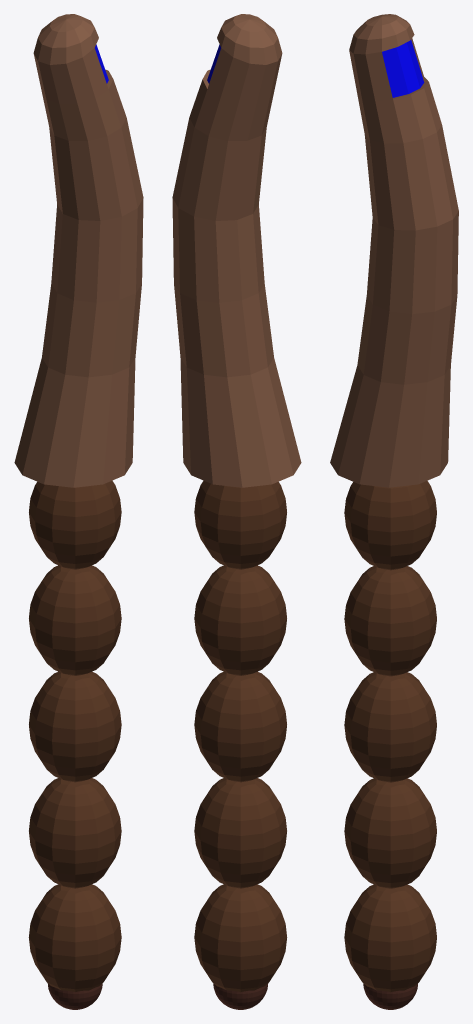
File: Wand 243.glb
The picture shows the model from 3 angles, left to right: view 1: azimuth 30°, elevation 25°; view 2: azimuth 150°, elevation 25°; view 3: azimuth 330°, elevation 25°; orthographic projection.
Visible parts, largest first — view 1: GeneratedWand; view 2: GeneratedWand; view 3: GeneratedWand.
Boxes of the visible parts, <box> form: GeneratedWand: <box>14,14,143,1009</box>; GeneratedWand: <box>172,14,301,1009</box>; GeneratedWand: <box>330,14,458,1009</box>.
Size of the model in its own units: 0.0644 by 0.5282 by 0.0572.
